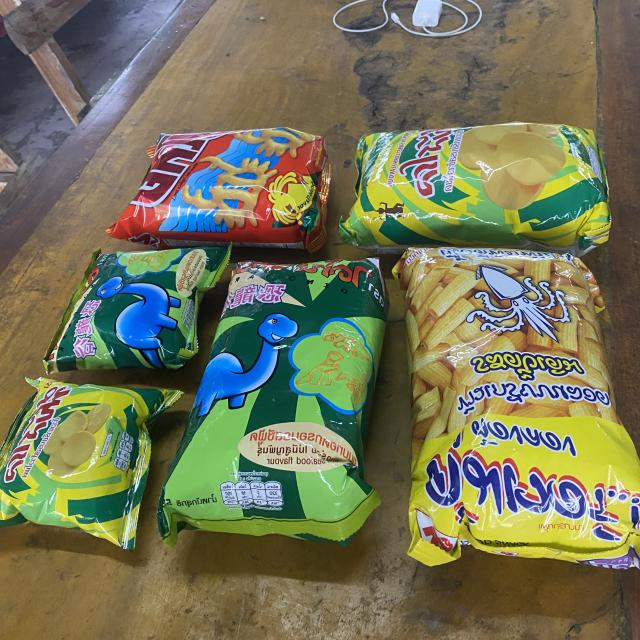plastik: (393, 248, 640, 570), (157, 258, 388, 545), (340, 123, 611, 256), (0, 378, 182, 549), (108, 128, 331, 252), (44, 248, 230, 373)
